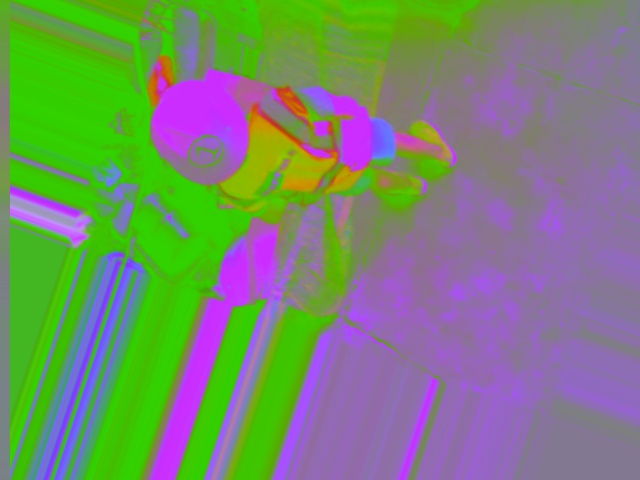one: (184, 128, 226, 172)
